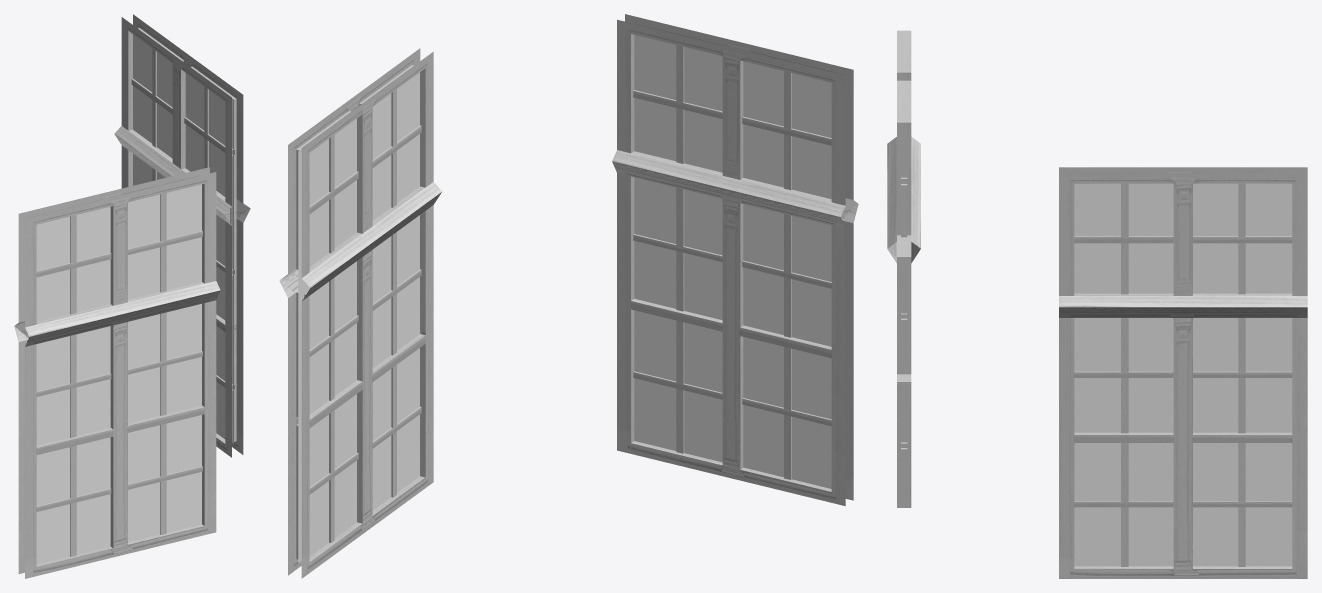
Rendered from WindowCorner1B.fbx.
3 renders of one model, left to right at view 1: azimuth 30°, elevation 25°; view 2: azimuth 150°, elevation 25°; view 3: azimuth 270°, elevation 25°, orthographic. The views are drawn at different scales.
Parts seen in each view (by area): view 1: WindowCorner1B; view 2: WindowCorner1B; view 3: WindowCorner1B.
Part boxes in pixels (box(x1,y1,x2,y2)): WindowCorner1B: box(14, 14, 250, 578); WindowCorner1B: box(279, 14, 858, 578); WindowCorner1B: box(887, 30, 1307, 578).
Size of the model in its own units: 156 by 180 by 169.
